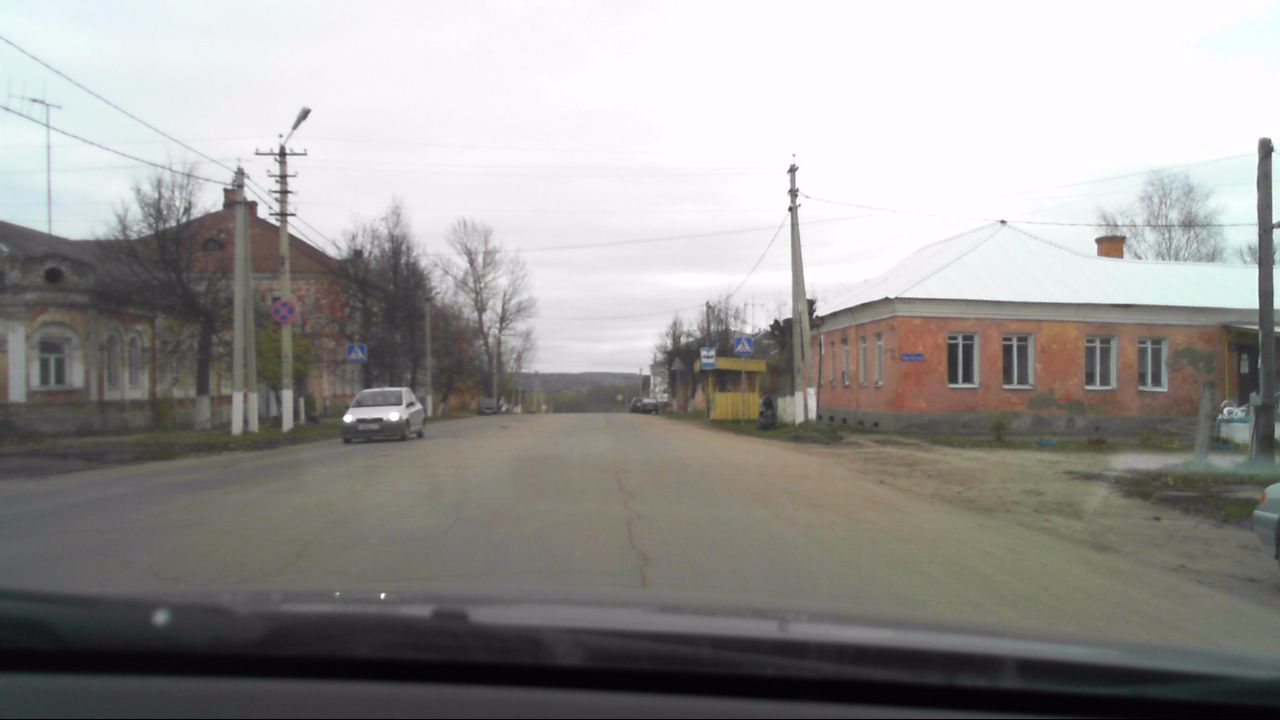No Parking: (271, 297, 296, 325)
